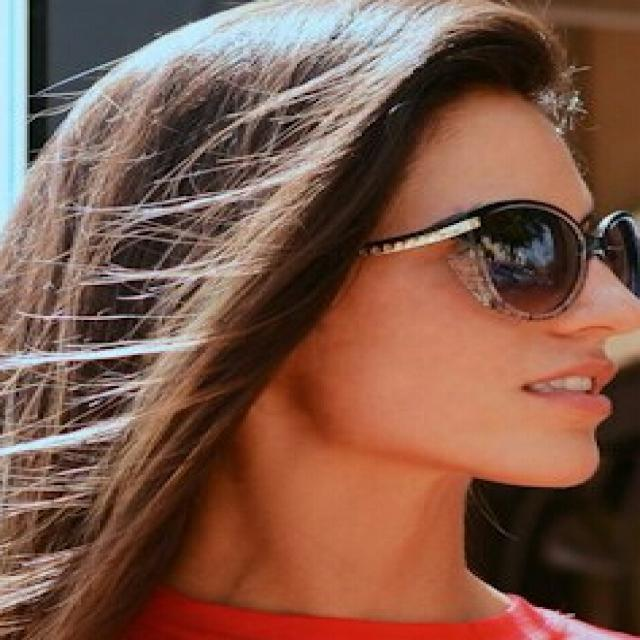front: (310, 130, 640, 489)
